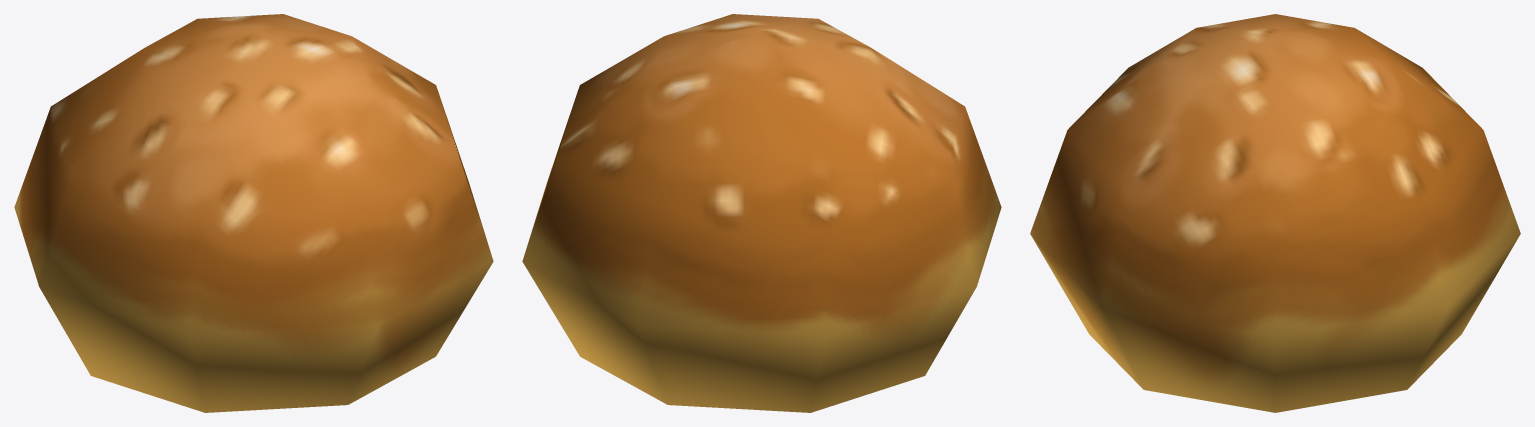
The model's file is SM_PROP_food_bread_05.FBX.
3 views of the same model, side by side, from view 1: azimuth 30°, elevation 25°; view 2: azimuth 150°, elevation 25°; view 3: azimuth 270°, elevation 25° (orthographic).
Visible parts, largest first — view 1: SM_PROP_food_bread_05; view 2: SM_PROP_food_bread_05; view 3: SM_PROP_food_bread_05.
Boxes of the visible parts, left/top/right/bottom form: SM_PROP_food_bread_05: left=14, top=14, right=493, bottom=412; SM_PROP_food_bread_05: left=522, top=14, right=1001, bottom=412; SM_PROP_food_bread_05: left=1030, top=14, right=1520, bottom=412.
Bounding box in the file's own units: 18.23 × 18.23 × 12.32.
